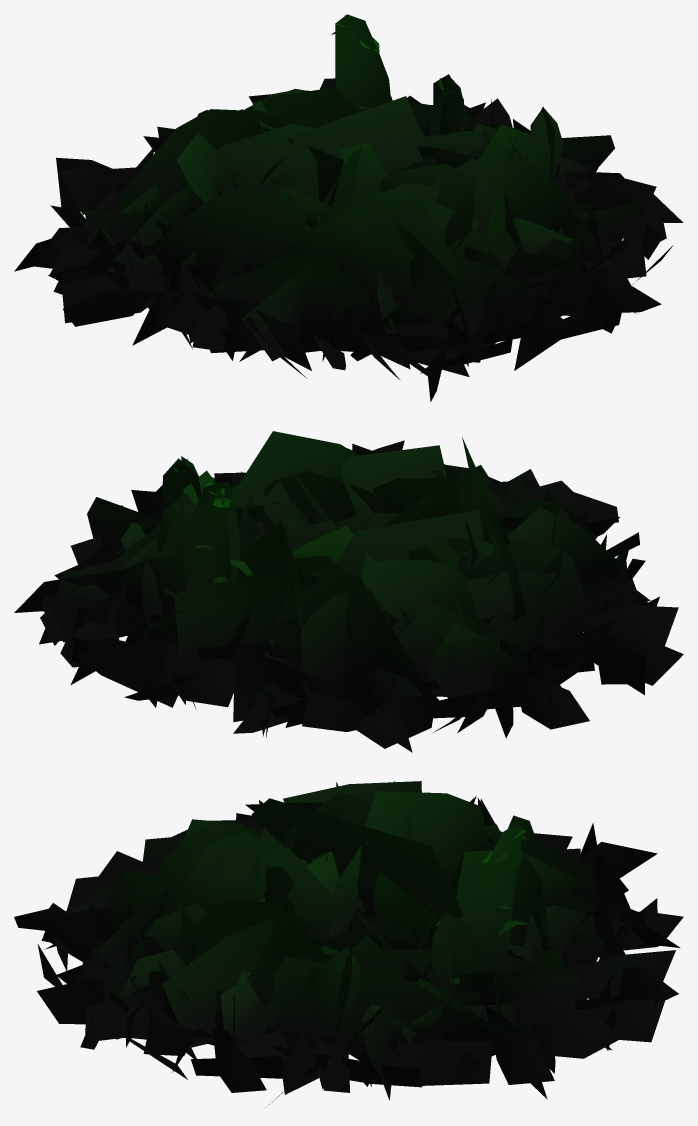
The model's file is Grass Mixed_H.fbx.
3 renders of one model, top to bottom at view 1: azimuth 30°, elevation 25°; view 2: azimuth 150°, elevation 25°; view 3: azimuth 270°, elevation 25°, orthographic. The views are drawn at different scales.
Parts seen in each view (by area): view 1: Grass MixedH_G_LOD0, Grass MixedH_F_LOD0; view 2: Grass MixedH_G_LOD0, Grass MixedH_F_LOD0; view 3: Grass MixedH_G_LOD0, Grass MixedH_F_LOD0.
Part boxes in pixels (box(x1,y1,x2,y2)): Grass MixedH_G_LOD0: box(14, 78, 683, 401); Grass MixedH_F_LOD0: box(305, 14, 576, 229); Grass MixedH_G_LOD0: box(14, 431, 683, 752); Grass MixedH_F_LOD0: box(157, 456, 472, 596); Grass MixedH_G_LOD0: box(14, 781, 683, 1105); Grass MixedH_F_LOD0: box(300, 823, 533, 1047).
Size of what is drawn, in the model's own units: 2.63 by 0.8074 by 2.5.
